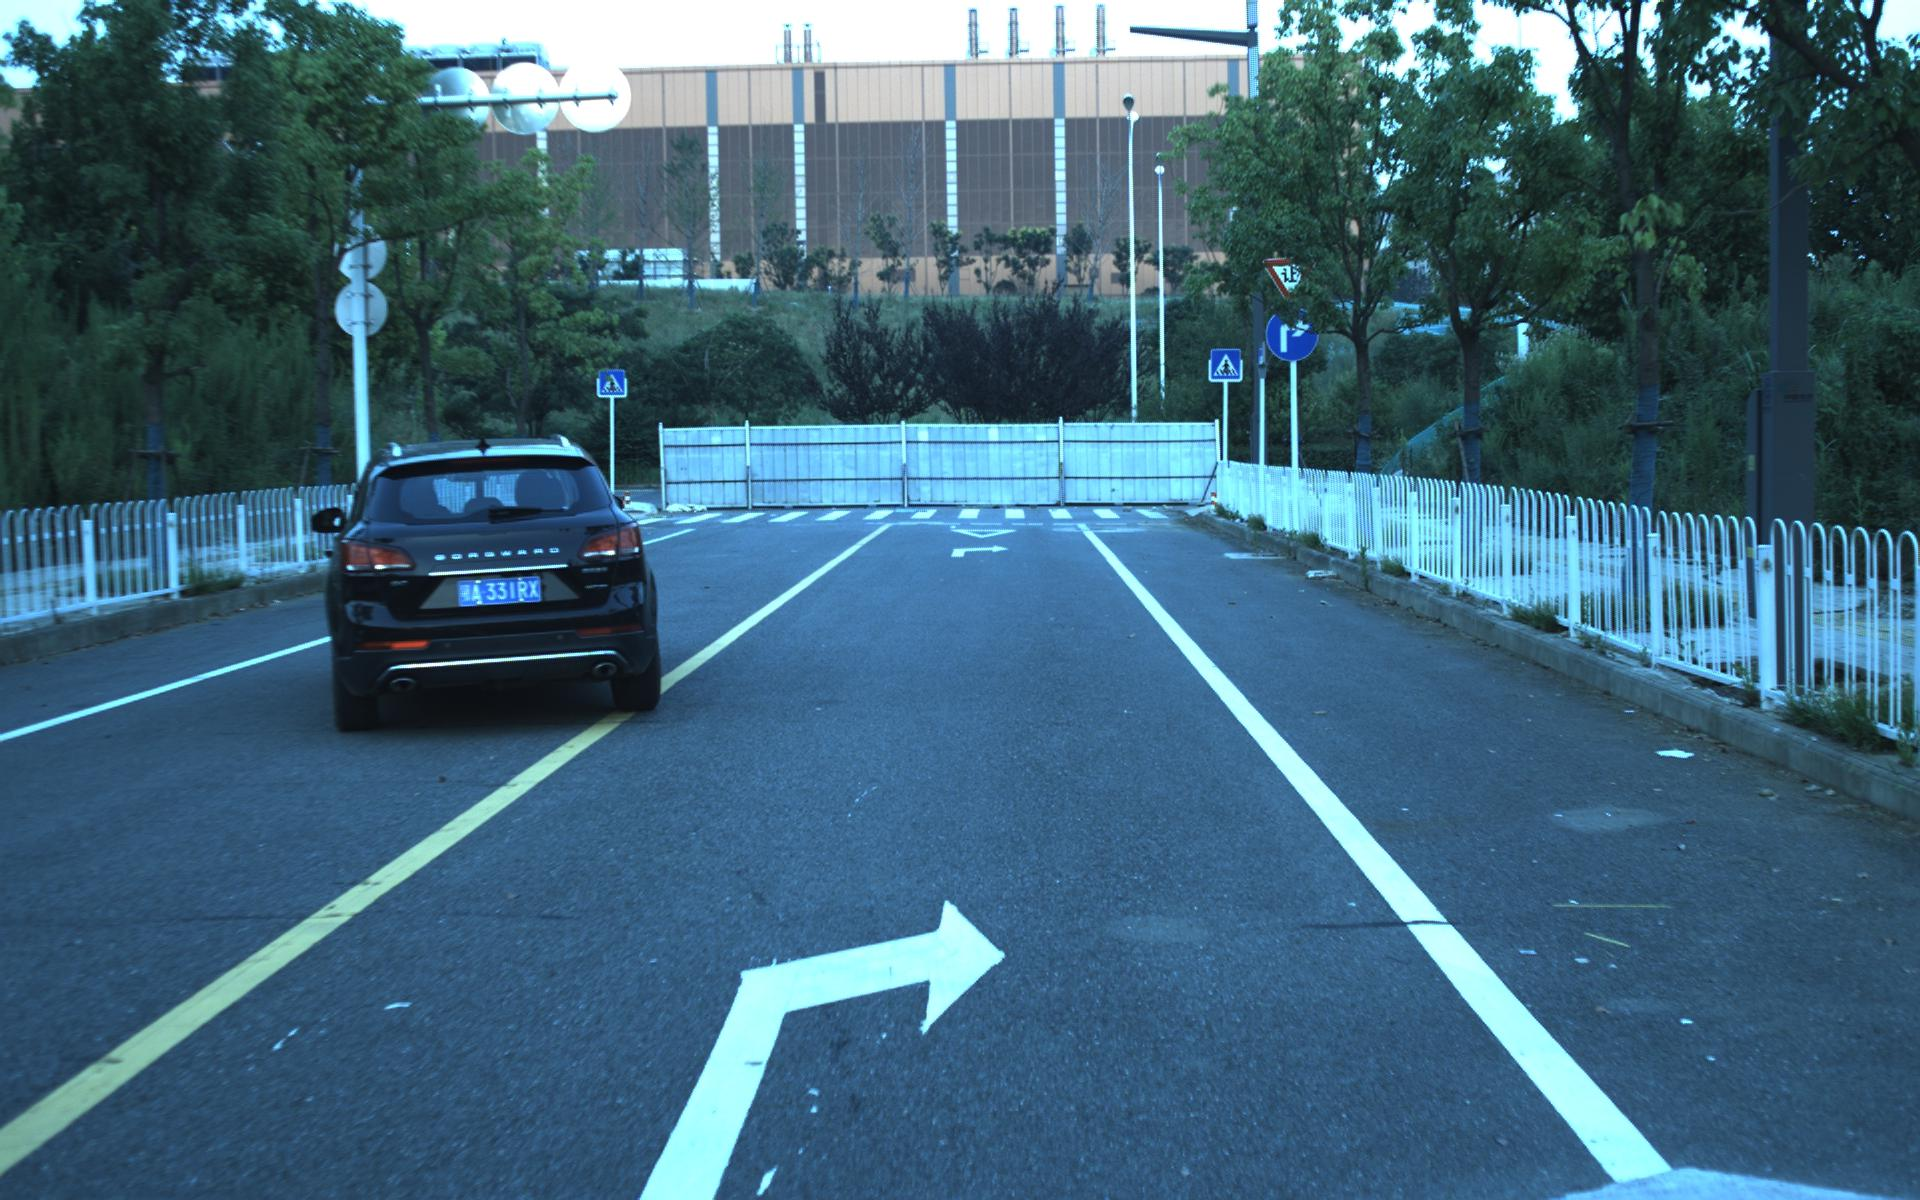Car: (312, 429, 672, 735)
